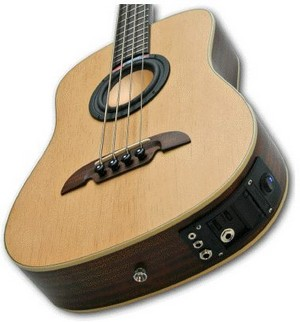guitar: (4, 1, 290, 314)
